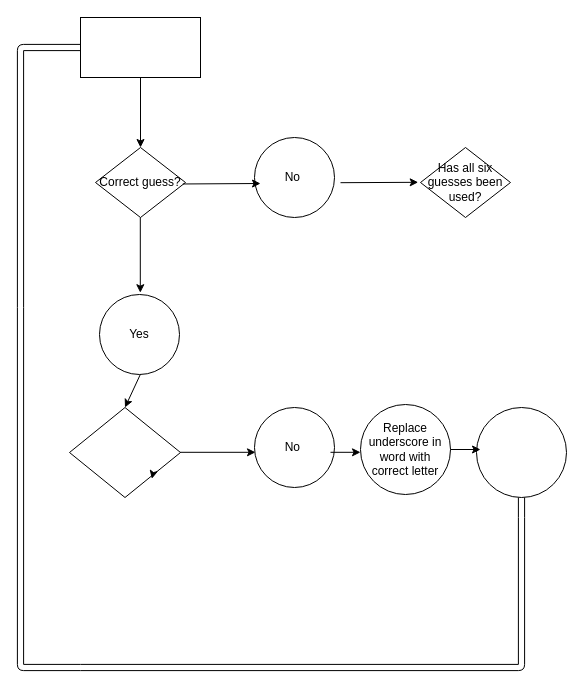
Some shapes in this 585 by 689 pixel diagram are drawn without their labels. Each missing label, with the centre of its shape:
Has the whole word been guessed?: the point at 124,452
Restart Loop: the point at 521,452
Start: the point at 140,47
